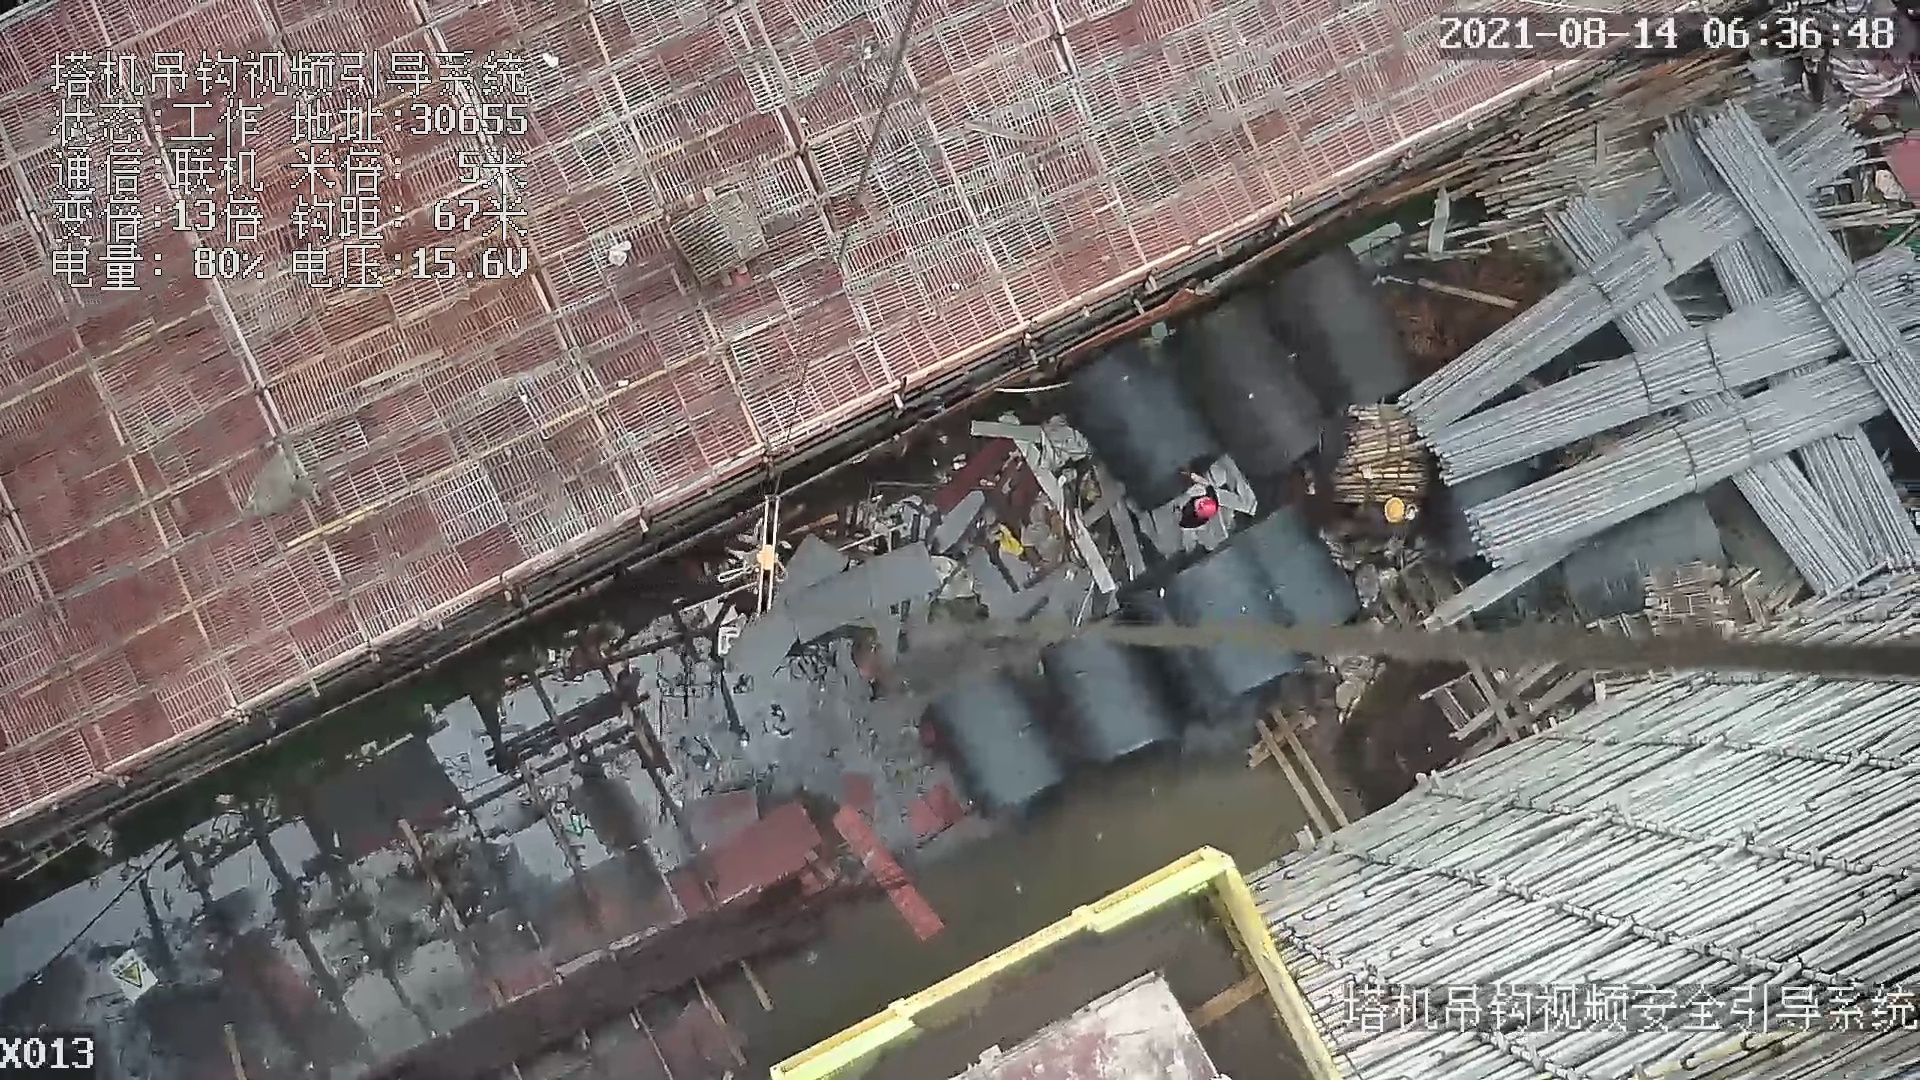helmet: (1381, 492, 1406, 530), (1194, 495, 1220, 527)
hook: (720, 495, 788, 606)
person: (1176, 472, 1224, 533)
scaffold: (1451, 100, 1913, 594), (1331, 392, 1432, 497)
